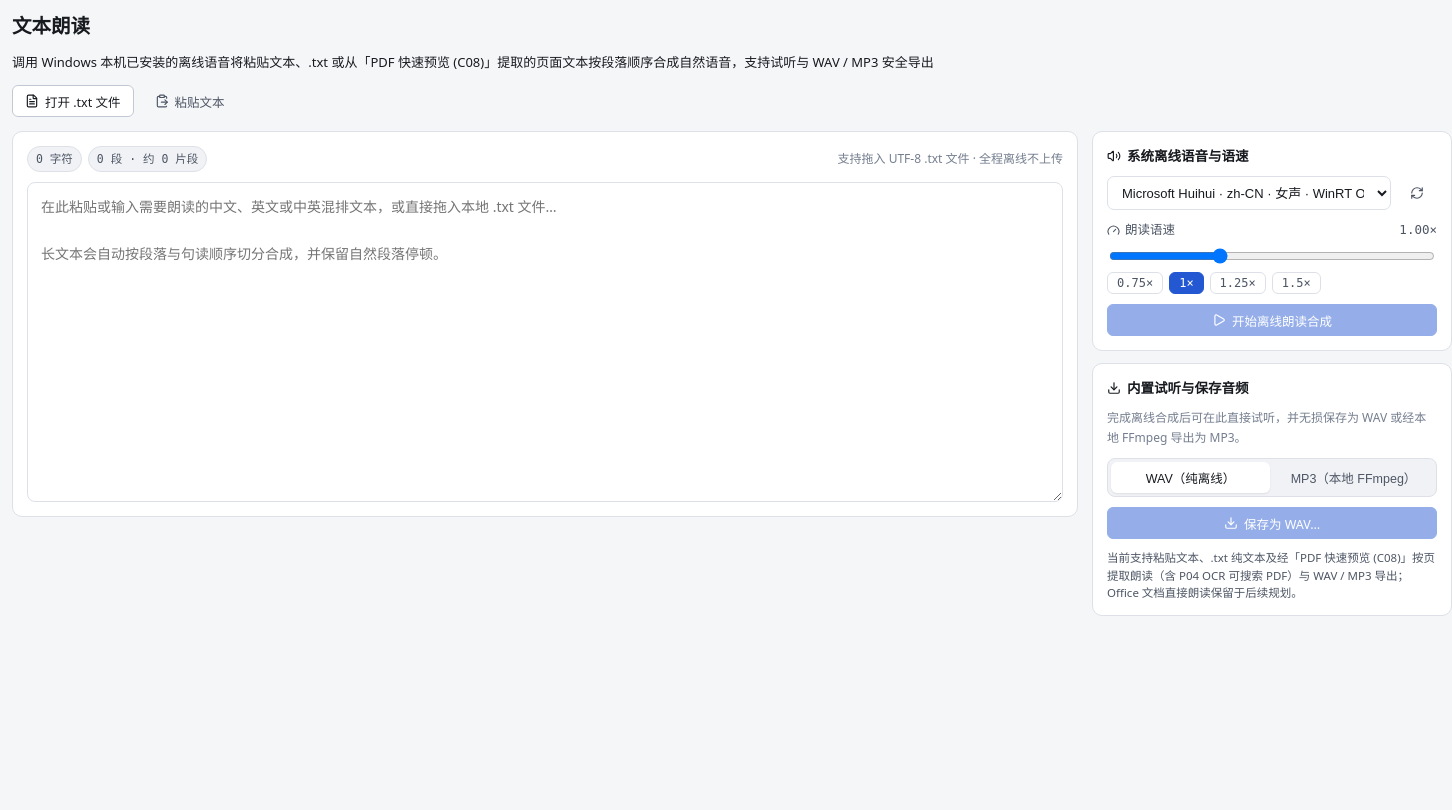
Scenario: TextToSpeechWorkspace (T06) › blocks exporting old audio onto original A.txt after pasting replacement text without popping overwrite dialog
Check: the dropdown with test id "t06-voice-select" shows "Microsoft Huihui · zh-CN · 女声 · WinRT OneCore", box left=1107, top=176, right=1391, bottom=210
What coordinates should you click on to do the following:
click the button with test id "t06-open-txt-btn"
I would click on:
 (73, 101)
Its box is left=12, top=85, right=134, bottom=117.
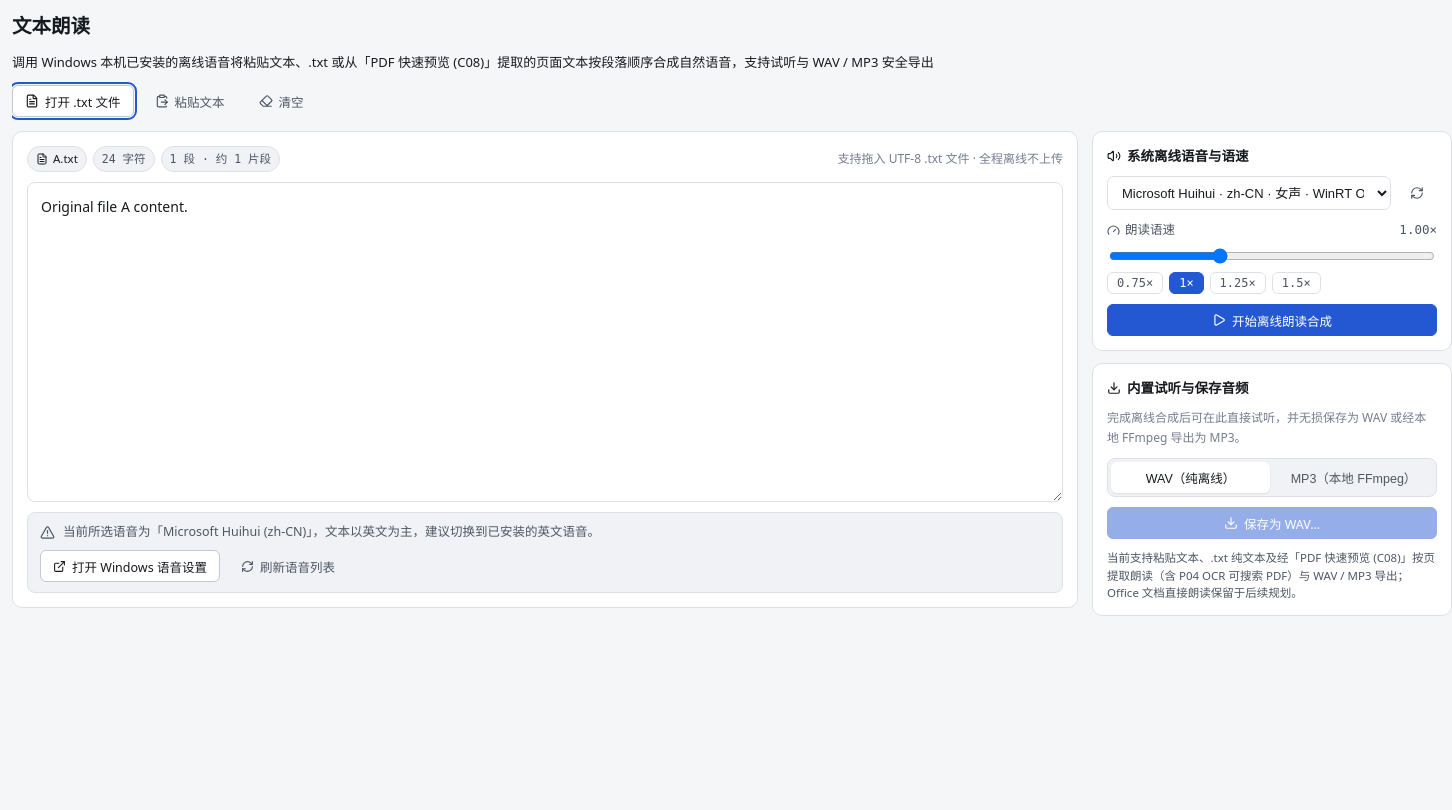
Check: the element with test id "t06-source-file-badge" reads "A.txt", box left=53, top=151, right=78, bottom=166
What coordinates should you click on to do the following:
click the button with test id "t06-start-btn"
I would click on:
 (1272, 320)
Its box is left=1107, top=304, right=1437, bottom=336.
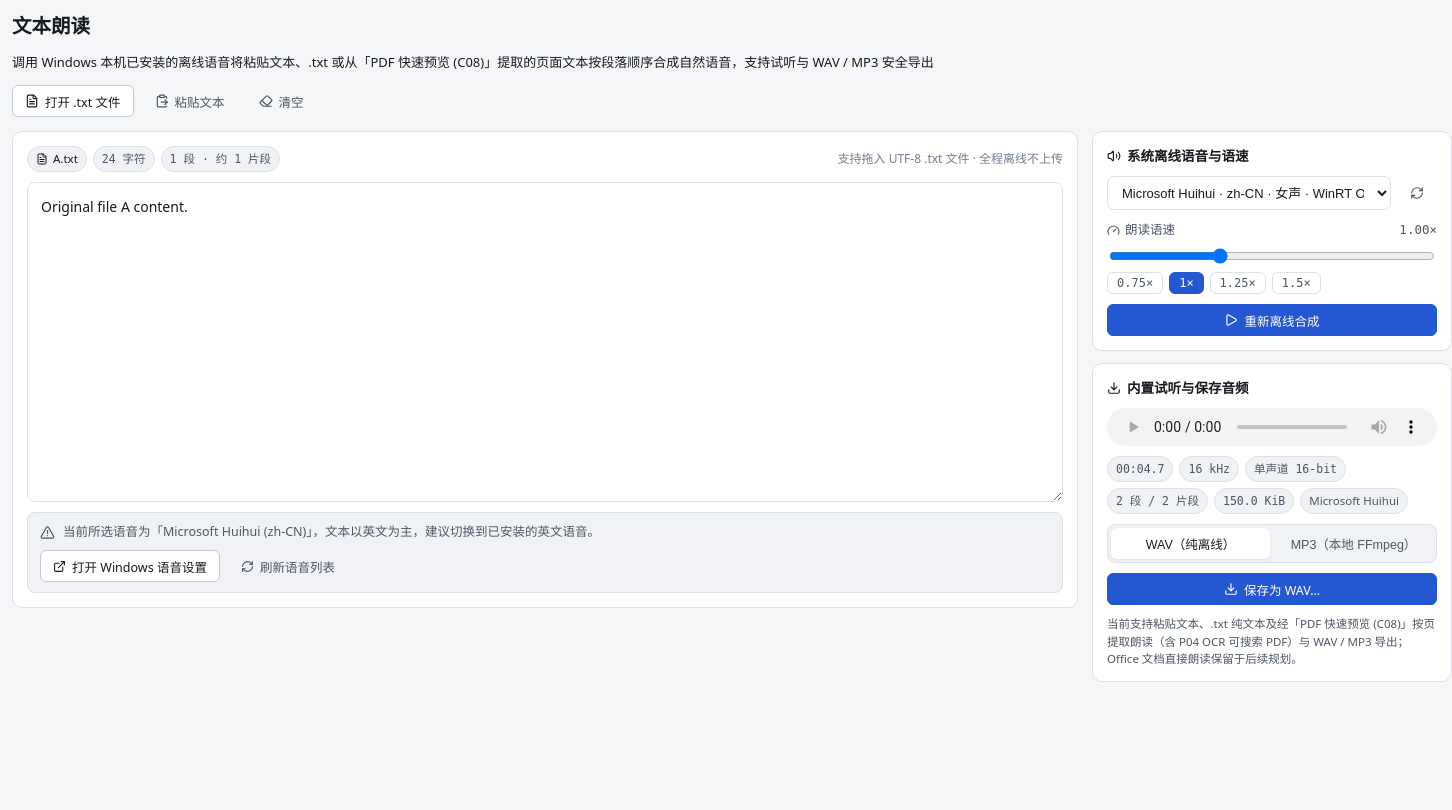
Check: the element with test id "t06-audio-player" is shown, box left=1107, top=408, right=1437, bottom=446
What coordinates should you click on to do the following:
click the button with test id "t06-paste-btn"
I would click on:
 (190, 101)
Its box is left=142, top=85, right=238, bottom=117.
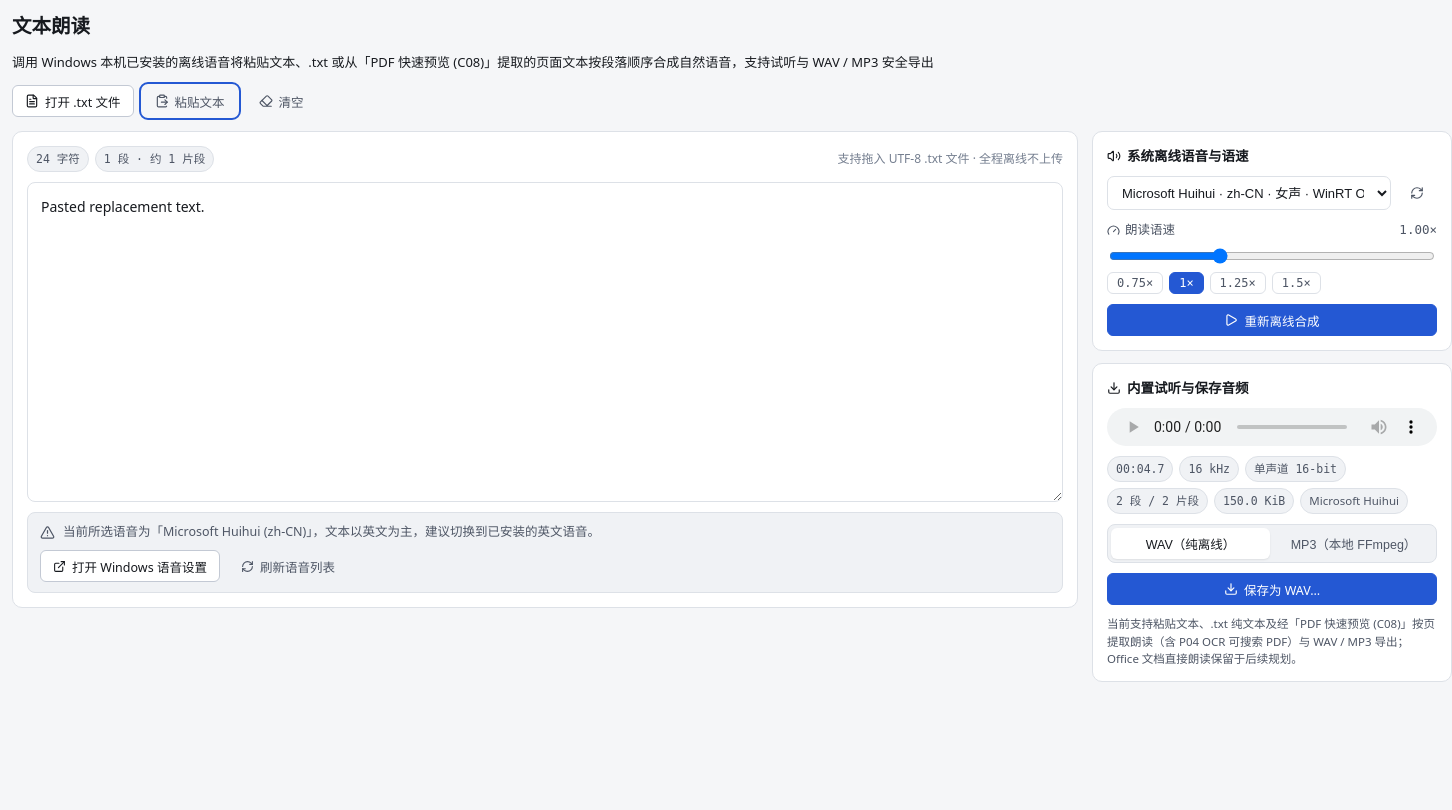
Check: the text box with test id "t06-text-input" holds "Pasted replacement text.", box left=27, top=182, right=1063, bottom=502
Check: the element with test id "t06-source-file-badge" is gone
What coordinates should you click on to do the following:
click the button with test id "t06-export-btn"
I would click on:
 (1272, 589)
Its box is left=1107, top=573, right=1437, bottom=605.
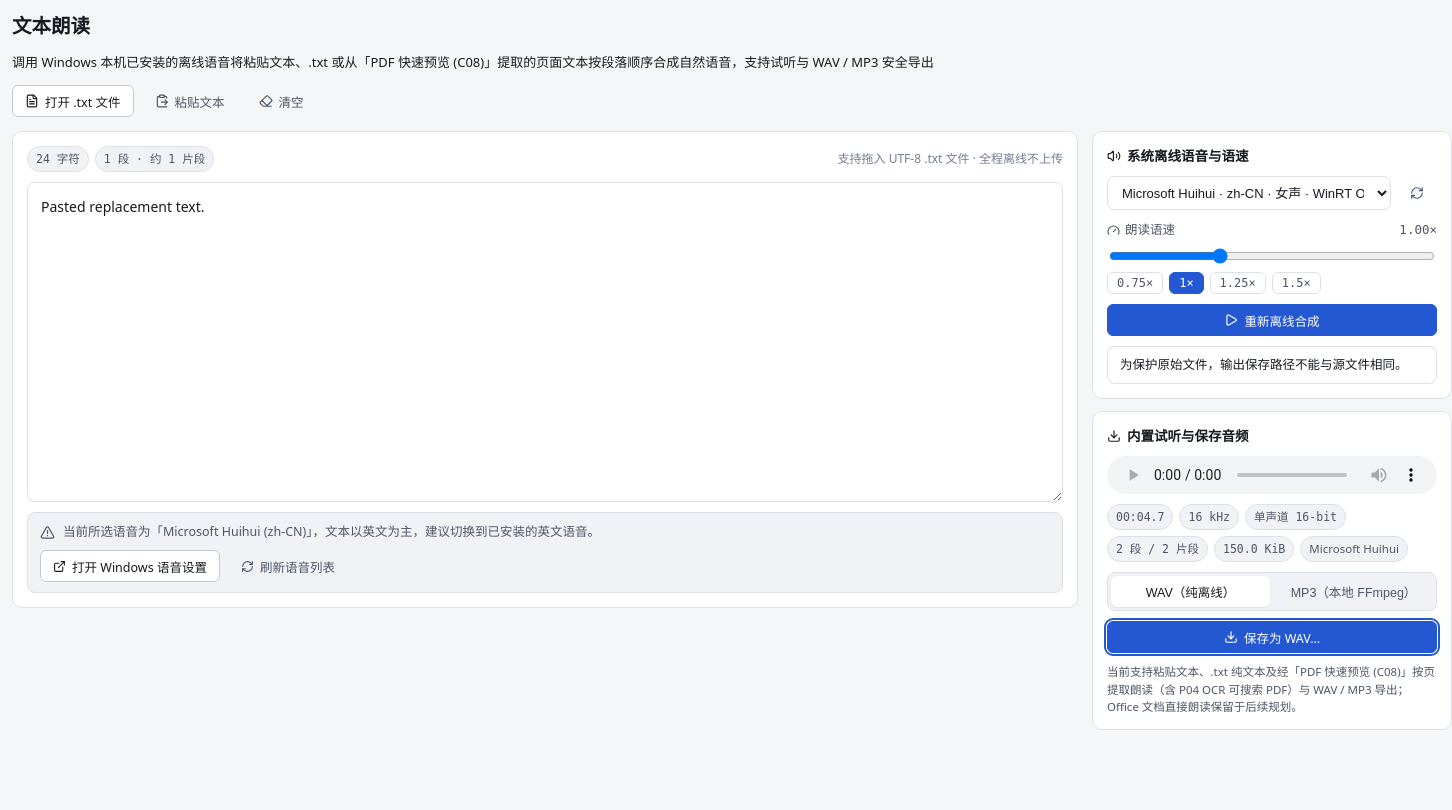
Check: the message "为保护原始文件，输出保存路径不能与源文件相同。" is shown, box left=1107, top=346, right=1437, bottom=384
